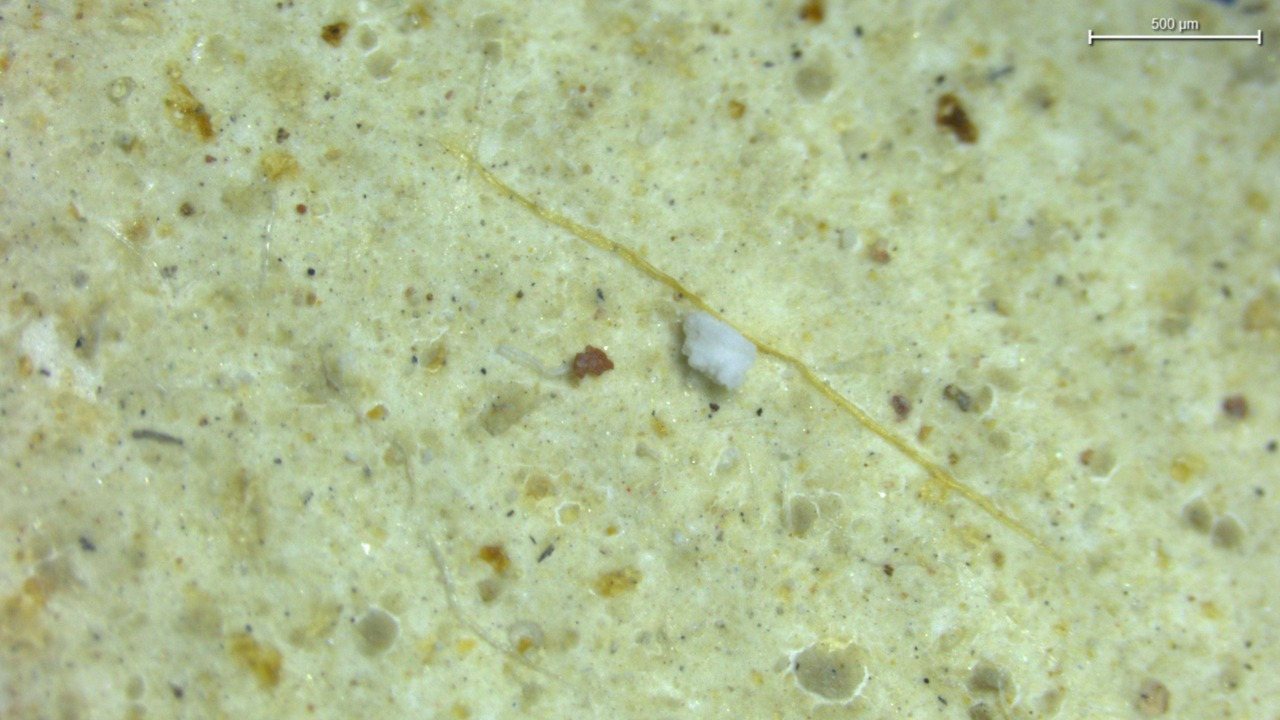microplastic_fragment: (447, 147, 1051, 552), (681, 311, 757, 389)
